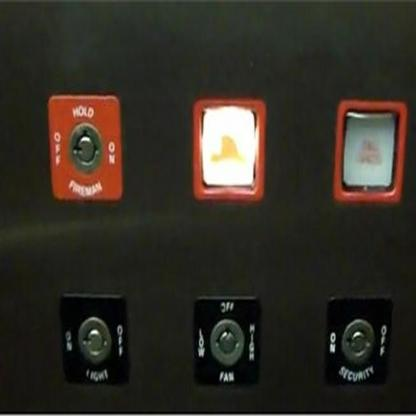bt_keyhole: (45, 91, 122, 203), (323, 295, 396, 395), (58, 296, 130, 392), (190, 296, 261, 388)
hat: (332, 92, 406, 204), (191, 96, 264, 203)
